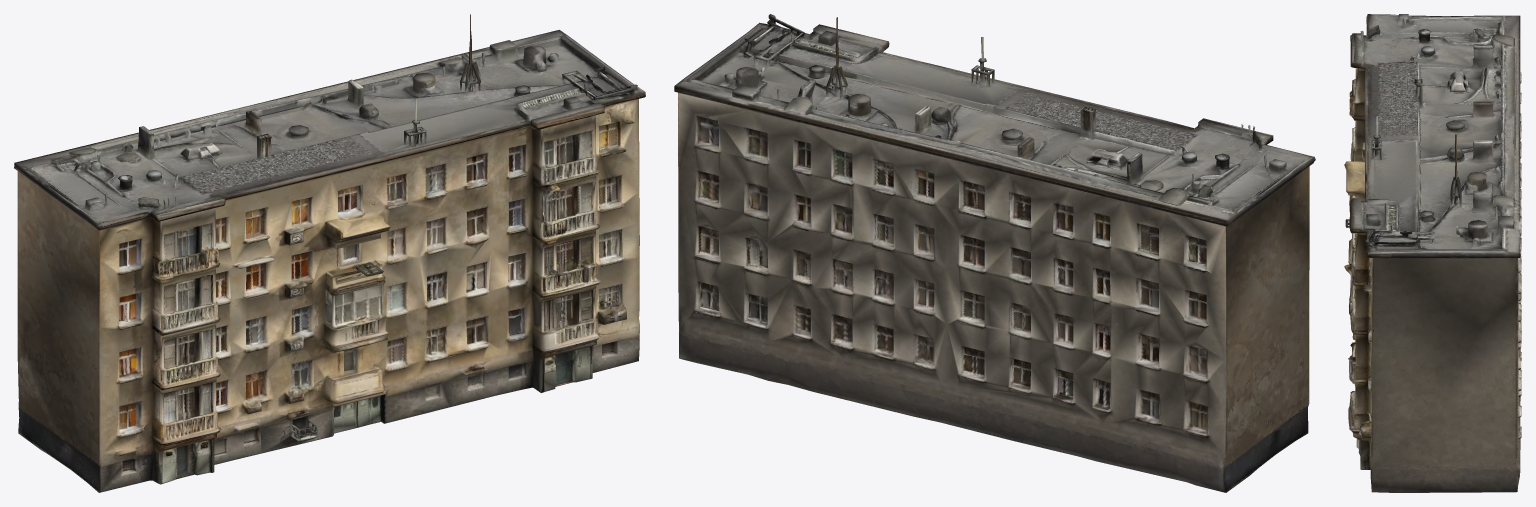
File: house.glb
The picture shows the model from 3 angles, left to right: view 1: azimuth 30°, elevation 25°; view 2: azimuth 150°, elevation 25°; view 3: azimuth 270°, elevation 25°; orthographic projection. The views are drawn at different scales.
Parts seen in each view (by area): view 1: tripo_node_db898205-834f-4367-bca7-014f4066e0d0; view 2: tripo_node_db898205-834f-4367-bca7-014f4066e0d0; view 3: tripo_node_db898205-834f-4367-bca7-014f4066e0d0.
Part boxes in pixels (<box>): tripo_node_db898205-834f-4367-bca7-014f4066e0d0: <box>14,14,645,492</box>; tripo_node_db898205-834f-4367-bca7-014f4066e0d0: <box>674,14,1315,492</box>; tripo_node_db898205-834f-4367-bca7-014f4066e0d0: <box>1344,14,1521,492</box>.
Bounding box in the file's own units: 0.9771 × 0.5842 × 0.3072.
Materials: 1 (1 with a texture image).
